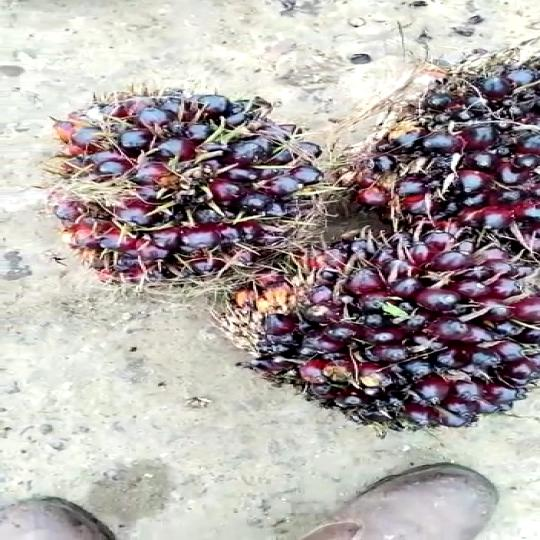mentah: (243, 239, 540, 440), (56, 88, 326, 290), (363, 61, 540, 241)
